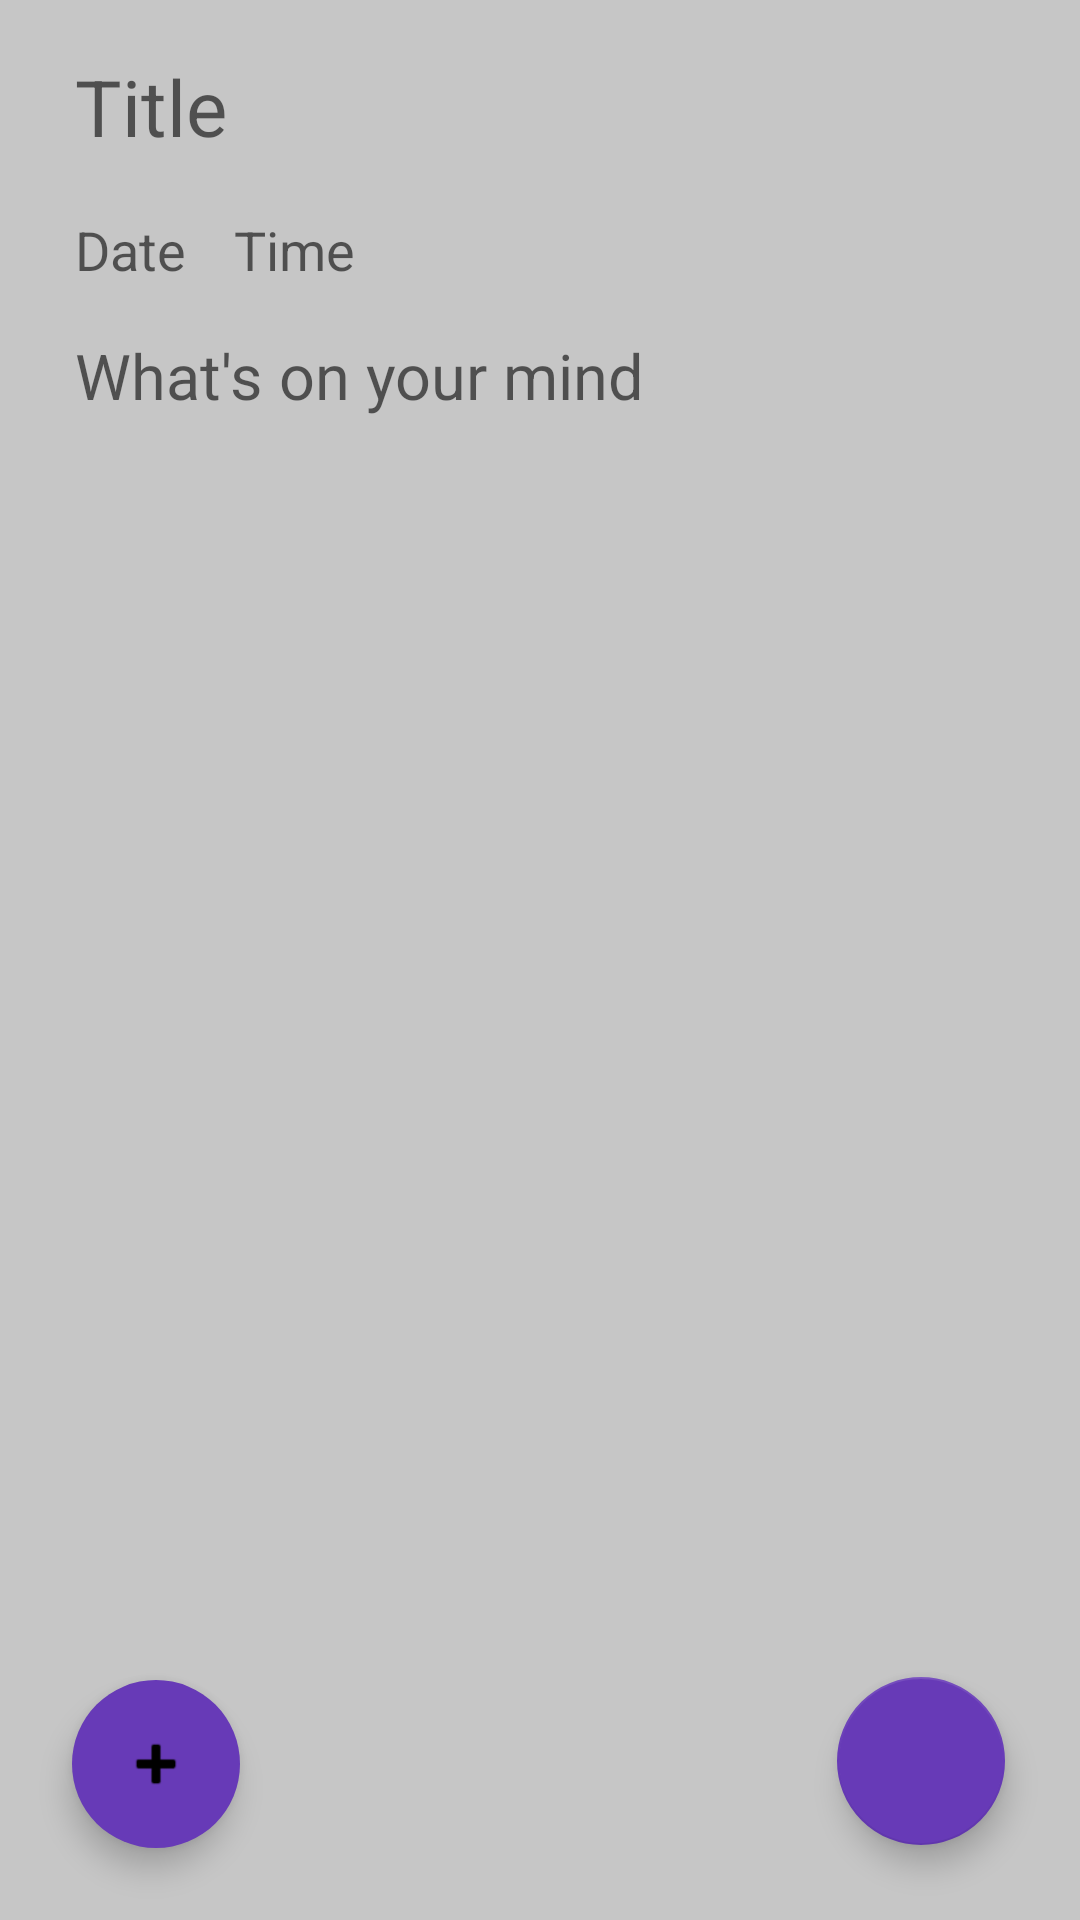

Screen size 1080 × 1920. Icon name, then its box in pixels as box(x1, y1, x2, y2):
add: box(72, 1680, 240, 1848)
